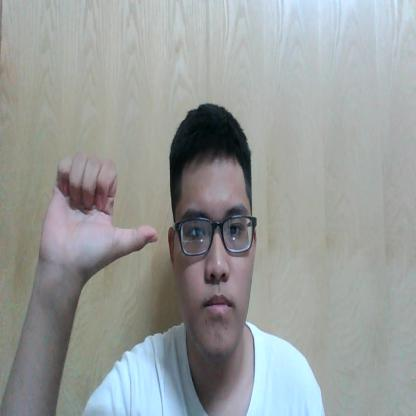left: (39, 149, 159, 278)
